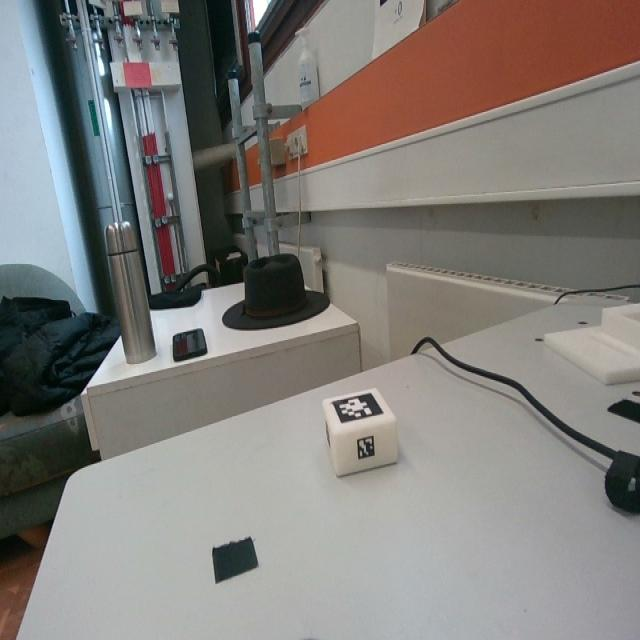Cube: (322, 385, 398, 479)
